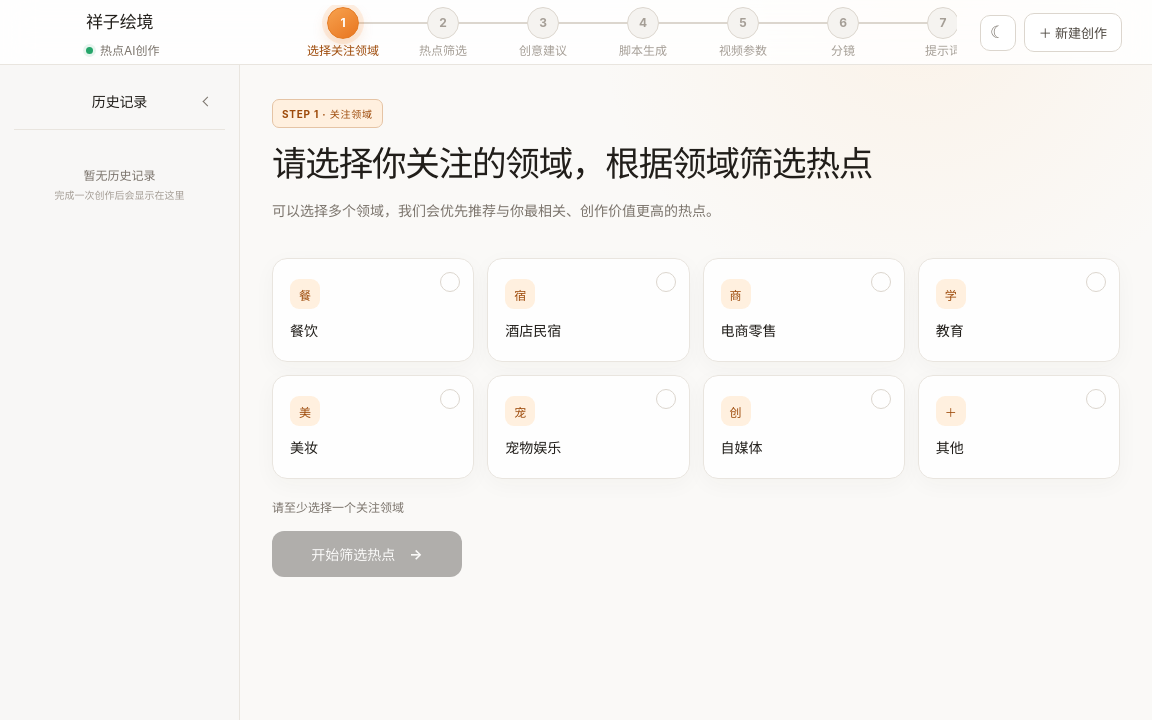
Step2 热点筛选流程 › 优先展示与所选领域相关且具备创作价值的 AI 筛选结果
The width and height of the screenshot is (1152, 720).
Click the button "商 电商零售".
click(804, 310)  # box 702,258 -> 905,362
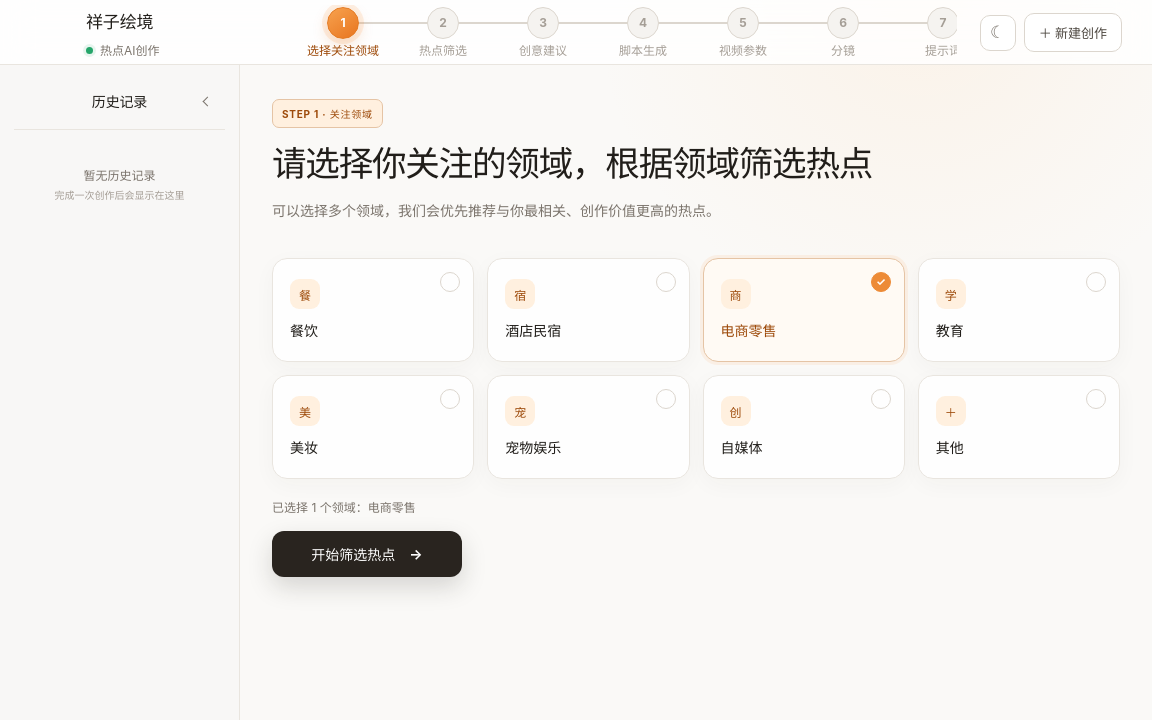
Click the button "开始筛选热点 →".
click(367, 554)  # box 272,531 -> 462,577
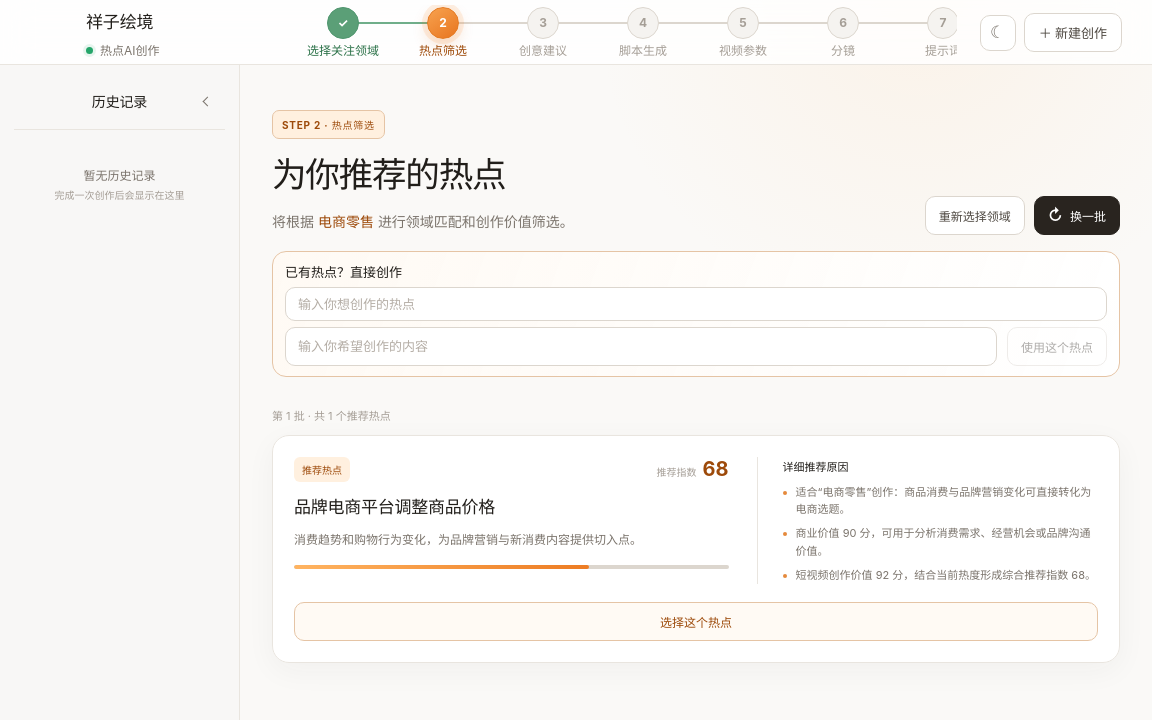
Expected: the heading "为你推荐的热点" is shown, 272,154 -> 505,195
Expected: the heading "品牌电商平台调整商品价格" is shown, 294,497 -> 495,517
Expected: the text "第 1 批 · 共 1 个推荐热点" is shown, 272,409 -> 391,423
